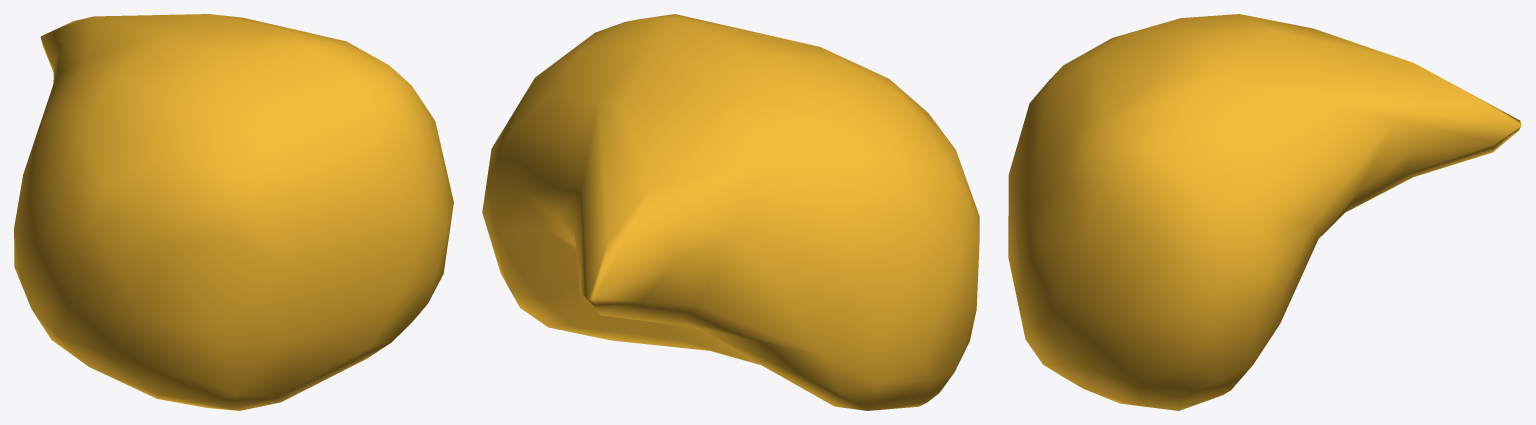
Rendered from nervoso-amygdaloid-body-r.glb.
The picture shows the model from 3 angles, left to right: view 1: azimuth 30°, elevation 25°; view 2: azimuth 150°, elevation 25°; view 3: azimuth 270°, elevation 25°; orthographic projection. The views are drawn at different scales.
Parts seen in each view (by area): view 1: Amygdaloid body.r; view 2: Amygdaloid body.r; view 3: Amygdaloid body.r.
Boxes of the visible parts, x1,y1,x2,y2 form: Amygdaloid body.r: (14,14,453,410); Amygdaloid body.r: (482,14,979,410); Amygdaloid body.r: (1008,14,1521,410).
Size of the model in its own units: 0.0165 by 0.0124 by 0.0178.
